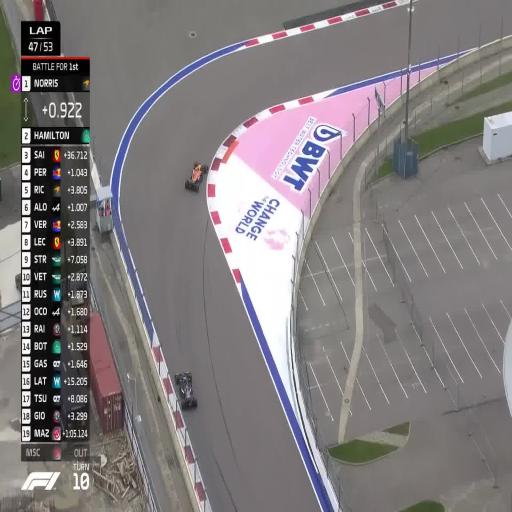f1_car: (175, 372, 197, 409), (185, 161, 209, 191)
